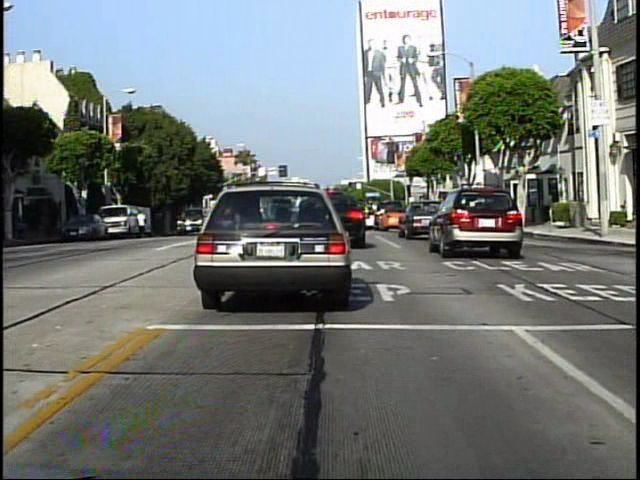person: (136, 206, 149, 241)
